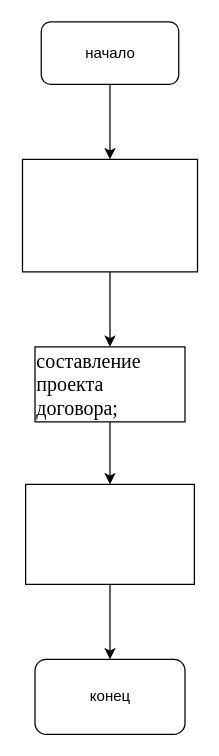
This 219x756 diagram has some shape labels left out. Each missing label, with the box of its shape:
выявление требований заказчика к форме и содержанию договора: (21, 158, 198, 272)
передача проекта договора на согласование внутри компании.: (24, 483, 194, 584)
